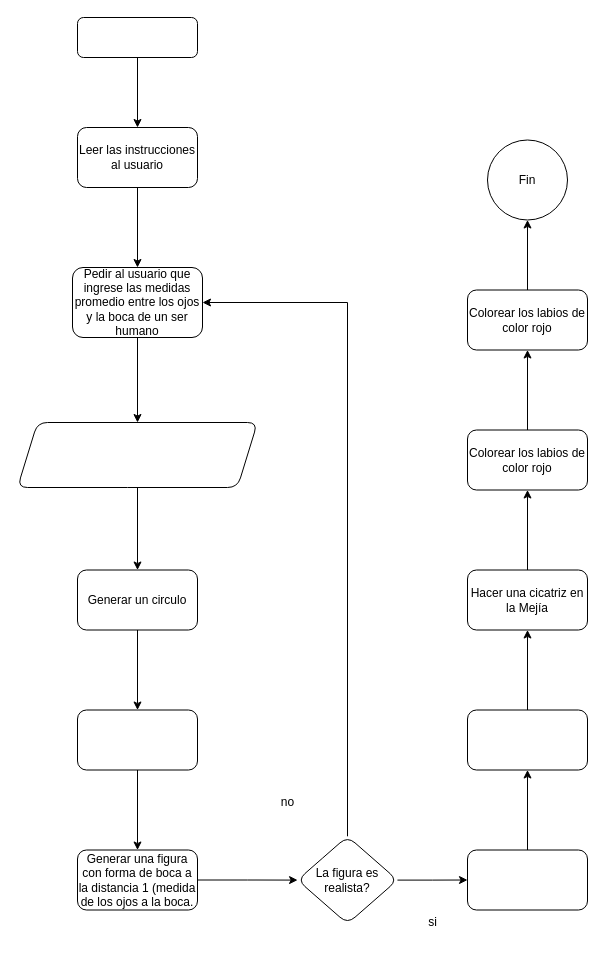
This 605x955 diagram has some shape labels left out. Each missing label, with the box of its shape:
Agregar color rojo a la nariz: (466, 849, 588, 910)
Hacer 2 ojos: (76, 709, 198, 770)
Hacer la nariz redonda y que este un 10% sobre los ojos: (466, 709, 588, 770)
Inicio: (76, 16, 198, 58)
Medida 1 distancia entre ojos y boca (ingresada por el usuario: (16, 422, 258, 488)
